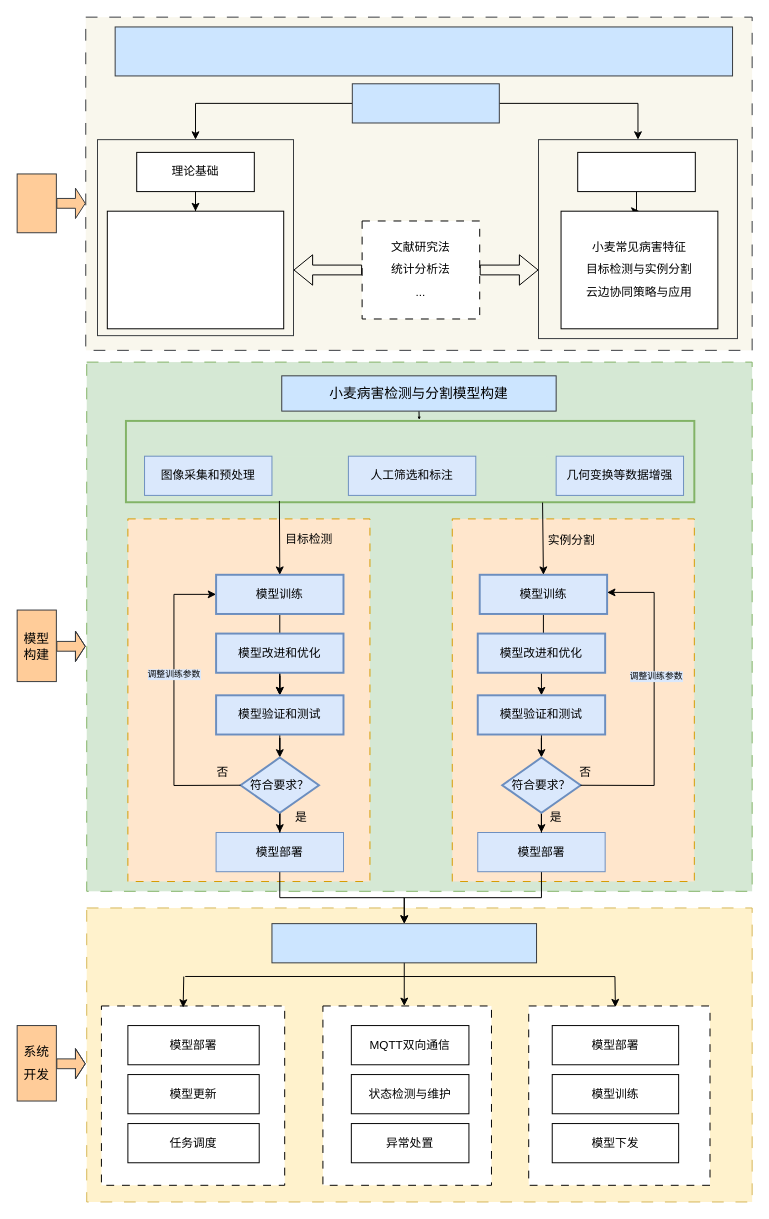
Image size: 769x1219. Some labels were removed from this diagram. Here are the shapes that lost their labels. From the top down, the centre of each, then its label:
[423,51]: 面向精准农业的云边协同小麦病害检测与分割研究
[425,103]: 研究基础
[636,171]: 相关研究
[36,203]: 研究 基础
[195,269]: 目标检测模型原理 实例分割相关模型 云边协同技术方法
[413,441]: 小麦病害数据集的构建
[404,943]: 云边协同检测与分割系统应用开发
